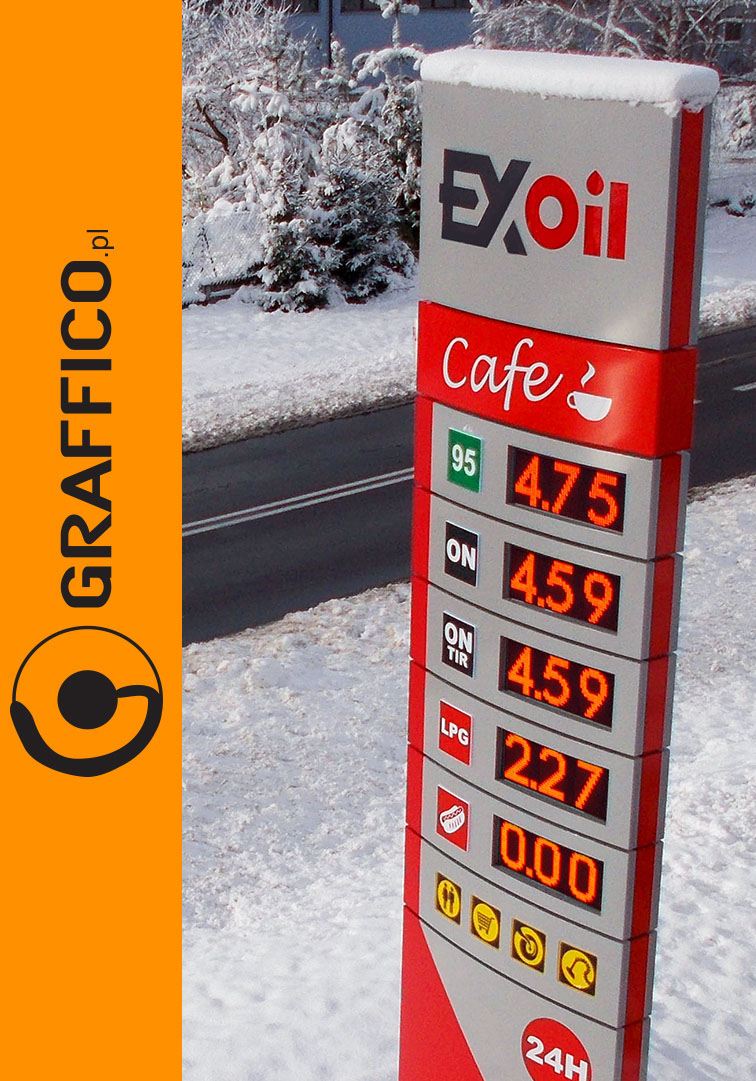LPG: (434, 697, 477, 770)
ON: (435, 609, 481, 680), (440, 515, 483, 590)
PB95: (438, 422, 491, 495)
